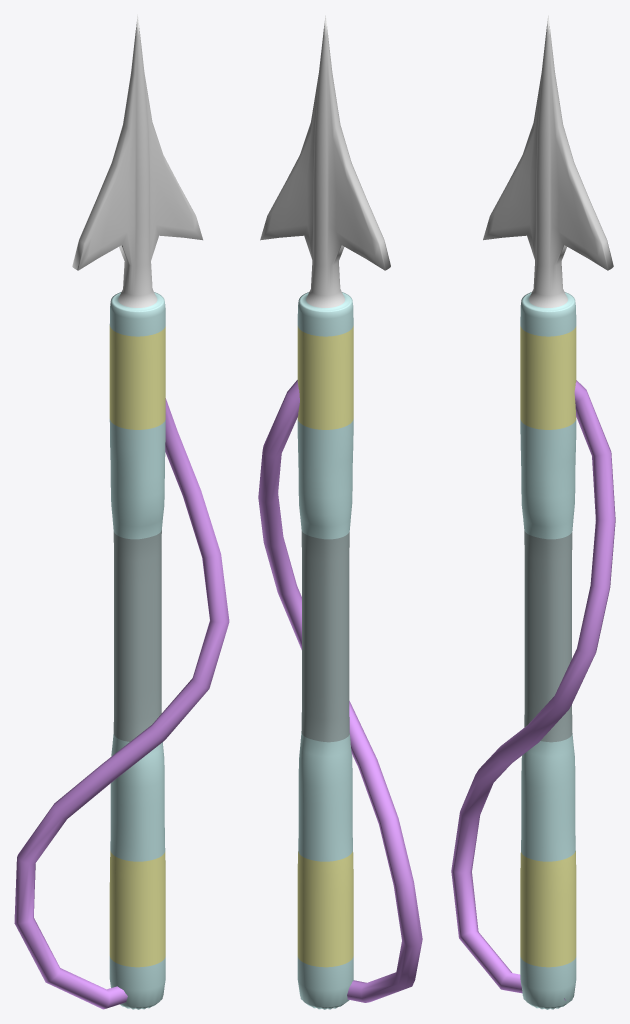
Rendered from harpoon.fbx.
3 views of the same model, side by side, from view 1: azimuth 30°, elevation 25°; view 2: azimuth 150°, elevation 25°; view 3: azimuth 330°, elevation 25° (orthographic).
Parts seen in each view (by area): view 1: pCylinder1, sweep1; view 2: pCylinder1, sweep1; view 3: pCylinder1, sweep1.
Part boxes in pixels (x1,y1,x2,y2): pCylinder1: [72, 14, 202, 1009]; sweep1: [14, 398, 229, 1009]; pCylinder1: [260, 15, 390, 1009]; sweep1: [258, 380, 422, 1002]; pCylinder1: [483, 15, 613, 1009]; sweep1: [451, 380, 615, 1000].
Size of the model in its own units: 5.64 by 29.49 by 2.78.
